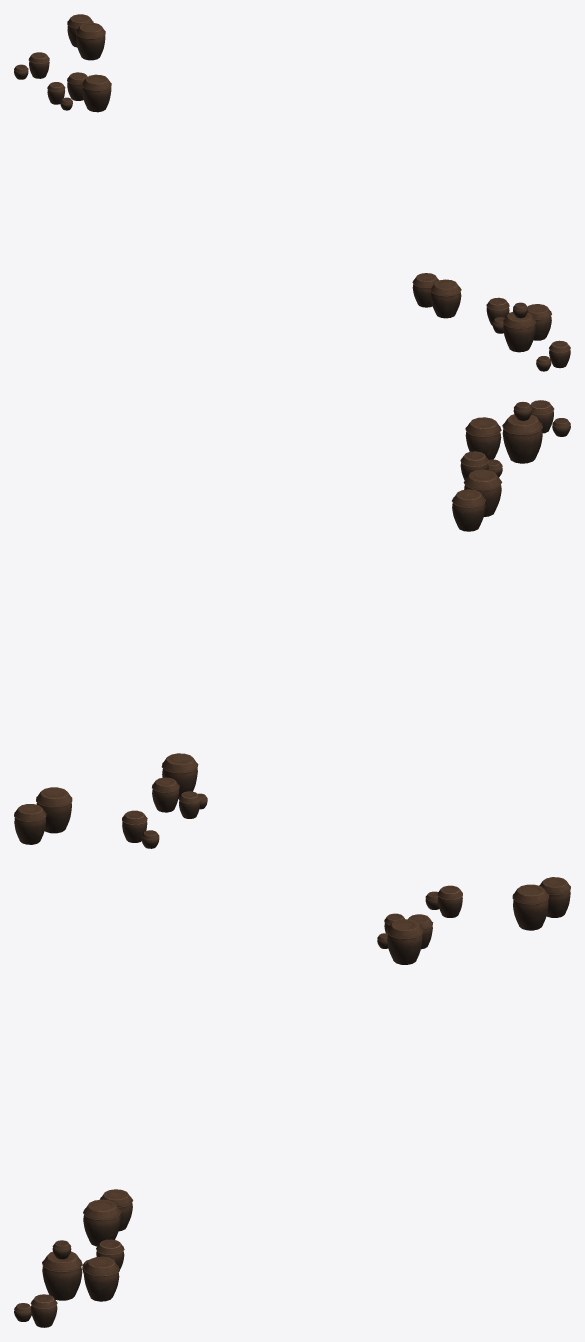
File: TraditionalKoreanHouse_Jangdokdae.fbx
3 views of the same model, one above another, from view 1: azimuth 30°, elevation 25°; view 2: azimuth 150°, elevation 25°; view 3: azimuth 330°, elevation 25° (orthographic). The views are drawn at different scales.
Visible parts, largest first — view 1: TraditionalKoreanHouse_Jangdokdae; view 2: TraditionalKoreanHouse_Jangdokdae; view 3: TraditionalKoreanHouse_Jangdokdae.
Part boxes in pixels (x1,y1,x2,y2): TraditionalKoreanHouse_Jangdokdae: (14, 14, 570, 371); TraditionalKoreanHouse_Jangdokdae: (14, 400, 570, 848); TraditionalKoreanHouse_Jangdokdae: (14, 877, 570, 1327).
Size of the model in its own units: 360 by 107 by 2040.
